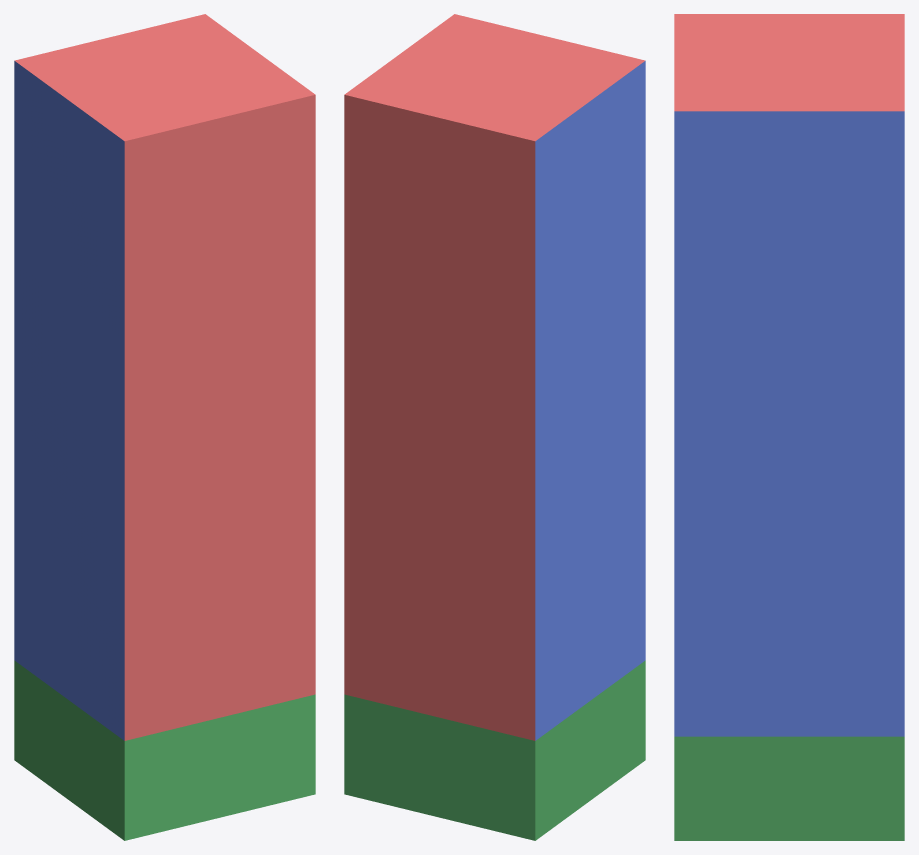
File: init_origin.pipe_length_2_0.dae
3 views of the same model, side by side, from view 1: azimuth 30°, elevation 25°; view 2: azimuth 150°, elevation 25°; view 3: azimuth 270°, elevation 25° (orthographic). The views are drawn at different scales.
Visible parts, largest first — view 1: ZXO (×2), ZXX (×3), Y (×2); view 2: ZXO (×2), ZXX (×3), Y (×2); view 3: ZXO, ZXX (×2), Y.
Boxes of the visible parts, bbox=[...] form: ZXO (×2): bbox=[14, 261, 315, 740]; ZXX (×3): bbox=[14, 14, 315, 340]; Y (×2): bbox=[14, 660, 315, 840]; ZXO (×2): bbox=[344, 261, 645, 740]; ZXX (×3): bbox=[344, 14, 645, 340]; Y (×2): bbox=[344, 660, 645, 840]; ZXO: bbox=[674, 319, 904, 736]; ZXX (×2): bbox=[674, 14, 904, 319]; Y: bbox=[674, 736, 904, 840].
Size of the model in its own units: 1 by 1 by 3.5.
